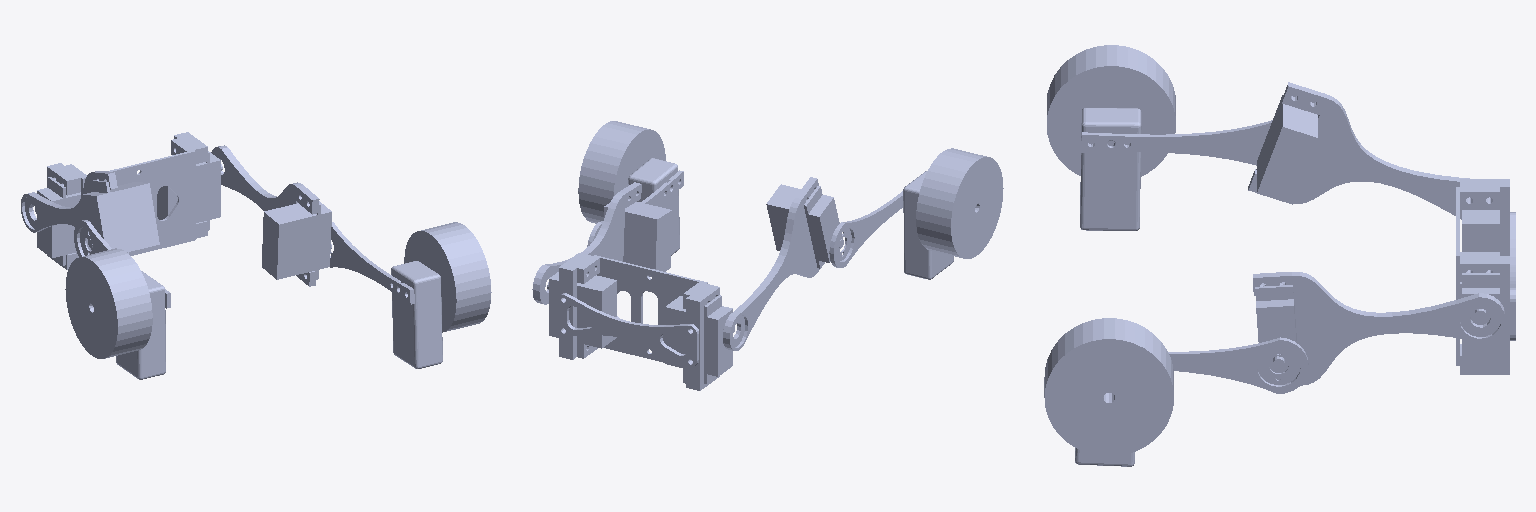
robot.urdf — bipedal.SLDASM:
<?xml version="1.0" encoding="utf-8"?>
<!-- This URDF was automatically created by SolidWorks to URDF Exporter! Originally created by [author] ([email redacted]) 
     Commit Version: 1.6.0-4-g7f85cfe  Build Version: 1.6.7995.38578
     For more information, please see http://wiki.ros.org/sw_urdf_exporter -->
<robot
  name="bipedal.SLDASM">
  <link
    name="body">
    <inertial>
      <origin
        xyz="-0.05 -0.0171013201755109 0.0143623011241136"
        rpy="0 0 0" />
      <mass
        value="0.0861212527896542" />
      <inertia
        ixx="2.27226159456877E-05"
        ixy="3.65565093371569E-21"
        ixz="8.15930956222306E-21"
        iyy="4.09061918452724E-05"
        iyz="-4.47643903406404E-21"
        izz="2.40138972081395E-05" />
    </inertial>
    <visual>
      <origin
        xyz="0 0 0"
        rpy="0 0 0" />
      <geometry>
        <mesh
          filename="package://bipedal.SLDASM/meshes/body.STL" />
      </geometry>
      <material
        name="">
        <color
          rgba="0.792156862745098 0.819607843137255 0.933333333333333 1" />
      </material>
    </visual>
    <collision>
      <origin
        xyz="0 0 0"
        rpy="0 0 0" />
      <geometry>
        <mesh
          filename="package://bipedal.SLDASM/meshes/body.STL" />
      </geometry>
    </collision>
  </link>
  <link
    name="up_left">
    <inertial>
      <origin
        xyz="-0.0900237685274533 -0.000800737066319293 -0.0211609061395259"
        rpy="0 0 0" />
      <mass
        value="0.0414539466144867" />
      <inertia
        ixx="9.94394681372434E-06"
        ixy="1.25837919865739E-09"
        ixz="-4.75619837507004E-08"
        iyy="1.89242479102518E-05"
        iyz="-2.89847198239973E-08"
        izz="2.1810516004308E-05" />
    </inertial>
    <visual>
      <origin
        xyz="0 0 0"
        rpy="0 0 0" />
      <geometry>
        <mesh
          filename="package://bipedal.SLDASM/meshes/up_left.STL" />
      </geometry>
      <material
        name="">
        <color
          rgba="0.792156862745098 0.819607843137255 0.933333333333333 1" />
      </material>
    </visual>
    <collision>
      <origin
        xyz="0 0 0"
        rpy="0 0 0" />
      <geometry>
        <mesh
          filename="package://bipedal.SLDASM/meshes/up_left.STL" />
      </geometry>
    </collision>
  </link>
  <joint
    name="knee_left"
    type="continuous">
    <origin
      xyz="-0.0924999998882412 -0.0175000000000001 0.024"
      rpy="1.5707963267949 0.33515942695841 1.5707963267949" />
    <parent
      link="body" />
    <child
      link="up_left" />
    <axis
      xyz="0 0 1" />
  </joint>
  <link
    name="down_left">
    <inertial>
      <origin
        xyz="-0.0799579113425913 0.0178992414159899 0.0119244924872847"
        rpy="0 0 0" />
      <mass
        value="0.0398135046111743" />
      <inertia
        ixx="1.2029730942839E-05"
        ixy="-1.42843186044429E-09"
        ixz="9.47356661279306E-09"
        iyy="7.90669295312632E-06"
        iyz="6.18776778314193E-08"
        izz="1.74948658784837E-05" />
    </inertial>
    <visual>
      <origin
        xyz="0 0 0"
        rpy="0 0 0" />
      <geometry>
        <mesh
          filename="package://bipedal.SLDASM/meshes/down_left.STL" />
      </geometry>
      <material
        name="">
        <color
          rgba="0.792156862745098 0.819607843137255 0.933333333333333 1" />
      </material>
    </visual>
    <collision>
      <origin
        xyz="0 0 0"
        rpy="0 0 0" />
      <geometry>
        <mesh
          filename="package://bipedal.SLDASM/meshes/down_left.STL" />
      </geometry>
    </collision>
  </link>
  <joint
    name="ankle_left"
    type="continuous">
    <origin
      xyz="-0.101991243034601 -0.0110721156671643 -0.0429999999999999"
      rpy="-3.14159265358979 0 0.319800102224046" />
    <parent
      link="up_left" />
    <child
      link="down_left" />
    <axis
      xyz="0 0 1" />
  </joint>
  <link
    name="wheel_left">
    <inertial>
      <origin
        xyz="1.11022302462516E-16 -2.77555756156289E-17 -0.0125000000000002"
        rpy="0 0 0" />
      <mass
        value="0.0822508226617978" />
      <inertia
        ixx="2.61883192237553E-05"
        ixy="1.32348898008484E-23"
        ixz="9.84896425958825E-21"
        iyy="2.61883192237553E-05"
        iyz="-8.01589229352956E-21"
        izz="4.380884442024E-05" />
    </inertial>
    <visual>
      <origin
        xyz="0 0 0"
        rpy="0 0 0" />
      <geometry>
        <mesh
          filename="package://bipedal.SLDASM/meshes/wheel_left.STL" />
      </geometry>
      <material
        name="">
        <color
          rgba="0.792156862745098 0.819607843137255 0.933333333333333 1" />
      </material>
    </visual>
    <collision>
      <origin
        xyz="0 0 0"
        rpy="0 0 0" />
      <geometry>
        <mesh
          filename="package://bipedal.SLDASM/meshes/wheel_left.STL" />
      </geometry>
    </collision>
  </link>
  <joint
    name="pivot_left"
    type="continuous">
    <origin
      xyz="-0.085 0 0.0230000000000001"
      rpy="-3.14159265358979 0 -0.00630300427140065" />
    <parent
      link="down_left" />
    <child
      link="wheel_left" />
    <axis
      xyz="0 0 1" />
  </joint>
  <link
    name="up_right">
    <inertial>
      <origin
        xyz="-0.0900237685274533 0.000655996944268489 -0.0136609060277669"
        rpy="0 0 0" />
      <mass
        value="0.0414539466144867" />
      <inertia
        ixx="9.94394681372434E-06"
        ixy="1.25837919867369E-09"
        ixz="-4.75619837506984E-08"
        iyy="1.89242479102518E-05"
        iyz="2.90123580340712E-08"
        izz="2.1810516004308E-05" />
    </inertial>
    <visual>
      <origin
        xyz="0 0 0"
        rpy="0 0 0" />
      <geometry>
        <mesh
          filename="package://bipedal.SLDASM/meshes/up_right.STL" />
      </geometry>
      <material
        name="">
        <color
          rgba="0.792156862745098 0.819607843137255 0.933333333333333 1" />
      </material>
    </visual>
    <collision>
      <origin
        xyz="0 0 0"
        rpy="0 0 0" />
      <geometry>
        <mesh
          filename="package://bipedal.SLDASM/meshes/up_right.STL" />
      </geometry>
    </collision>
  </link>
  <joint
    name="knee_right"
    type="continuous">
    <origin
      xyz="0 -0.0175 0.024"
      rpy="-1.5707963267949 -0.0656950877658922 1.5707963267949" />
    <parent
      link="body" />
    <child
      link="up_right" />
    <axis
      xyz="0 0 1" />
  </joint>
  <link
    name="down_right">
    <inertial>
      <origin
        xyz="-0.0799579114901579 -0.0179006865343754 0.0119244925618341"
        rpy="0 0 0" />
      <mass
        value="0.0398135042766036" />
      <inertia
        ixx="1.20297312082357E-05"
        ixy="-1.42747387731231E-09"
        ixz="9.47354408868546E-09"
        iyy="7.9066923303417E-06"
        iyz="-6.18187584081892E-08"
        izz="1.74948655222408E-05" />
    </inertial>
    <visual>
      <origin
        xyz="0 0 0"
        rpy="0 0 0" />
      <geometry>
        <mesh
          filename="package://bipedal.SLDASM/meshes/down_right.STL" />
      </geometry>
      <material
        name="">
        <color
          rgba="0.792156862745098 0.819607843137255 0.933333333333333 1" />
      </material>
    </visual>
    <collision>
      <origin
        xyz="0 0 0"
        rpy="0 0 0" />
      <geometry>
        <mesh
          filename="package://bipedal.SLDASM/meshes/down_right.STL" />
      </geometry>
    </collision>
  </link>
  <joint
    name="ankle_right"
    type="continuous">
    <origin
      xyz="-0.101991243034601 0.0109278845340023 -0.0354999998882412"
      rpy="-3.14159265358979 0 0.111919198091748" />
    <parent
      link="up_right" />
    <child
      link="down_right" />
    <axis
      xyz="0 0 1" />
  </joint>
  <link
    name="wheel_right">
    <inertial>
      <origin
        xyz="-6.64399091299117E-16 -2.77555756156289E-17 0.0125000000000001"
        rpy="0 0 0" />
      <mass
        value="0.0822508226617978" />
      <inertia
        ixx="2.61883192237553E-05"
        ixy="4.2351647362715E-22"
        ixz="1.49823480789765E-21"
        iyy="2.61883192237553E-05"
        iyz="3.43388561364539E-21"
        izz="4.380884442024E-05" />
    </inertial>
    <visual>
      <origin
        xyz="0 0 0"
        rpy="0 0 0" />
      <geometry>
        <mesh
          filename="package://bipedal.SLDASM/meshes/wheel_right.STL" />
      </geometry>
      <material
        name="">
        <color
          rgba="0.792156862745098 0.819607843137255 0.933333333333333 1" />
      </material>
    </visual>
    <collision>
      <origin
        xyz="0 0 0"
        rpy="0 0 0" />
      <geometry>
        <mesh
          filename="package://bipedal.SLDASM/meshes/wheel_right.STL" />
      </geometry>
    </collision>
  </link>
  <joint
    name="pivot_right"
    type="continuous">
    <origin
      xyz="-0.0849999999999999 0 0.0230000000000005"
      rpy="0 0 1.53407199661008" />
    <parent
      link="down_right" />
    <child
      link="wheel_right" />
    <axis
      xyz="0 0 1" />
  </joint>
</robot>

--- Render facts (derived) ---
The picture shows the robot from 3 angles, left to right: view 1: azimuth 30°, elevation 25°; view 2: azimuth 150°, elevation 25°; view 3: azimuth 270°, elevation 25°; orthographic projection.
Robot: bipedal.SLDASM — 7 links, 6 joints (6 continuous); root link body; default pose: all joints at 0.
Visible links, largest first — view 1: body, wheel_left, up_right, down_right, up_left, wheel_right, down_left; view 2: body, wheel_left, up_left, up_right, wheel_right, down_left, down_right; view 3: wheel_right, up_left, up_right, down_left, wheel_left, body, down_right.
Boxes of the visible links, left/top/right/bottom form: body: left=35, top=132, right=222, bottom=269; wheel_left: left=65, top=248, right=152, bottom=358; up_right: left=211, top=145, right=331, bottom=286; down_right: left=330, top=222, right=442, bottom=368; up_left: left=21, top=171, right=159, bottom=253; wheel_right: left=404, top=222, right=491, bottom=332; down_left: left=74, top=220, right=170, bottom=379; body: left=547, top=253, right=734, bottom=390; wheel_left: left=916, top=148, right=1003, bottom=258; up_left: left=723, top=177, right=843, bottom=350; up_right: left=532, top=182, right=672, bottom=304; wheel_right: left=578, top=121, right=665, bottom=223; down_left: left=829, top=171, right=953, bottom=279; down_right: left=587, top=158, right=683, bottom=255; wheel_right: left=1044, top=318, right=1173, bottom=455; up_left: left=1248, top=82, right=1469, bottom=219; up_right: left=1253, top=272, right=1504, bottom=385; down_left: left=1080, top=108, right=1272, bottom=230; wheel_left: left=1047, top=45, right=1175, bottom=176; body: left=1456, top=179, right=1515, bottom=374; down_right: left=1075, top=337, right=1308, bottom=466.
Size in the robot's own frame: 0.267 by 0.236 by 0.13 metres.
Meshes: 7 distinct files referenced, 7 mesh visuals loaded (7 binary STL).